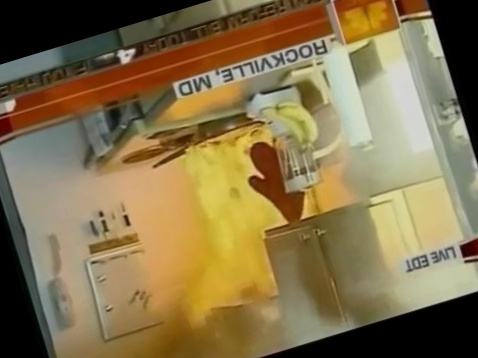fire: (159, 95, 331, 326)
